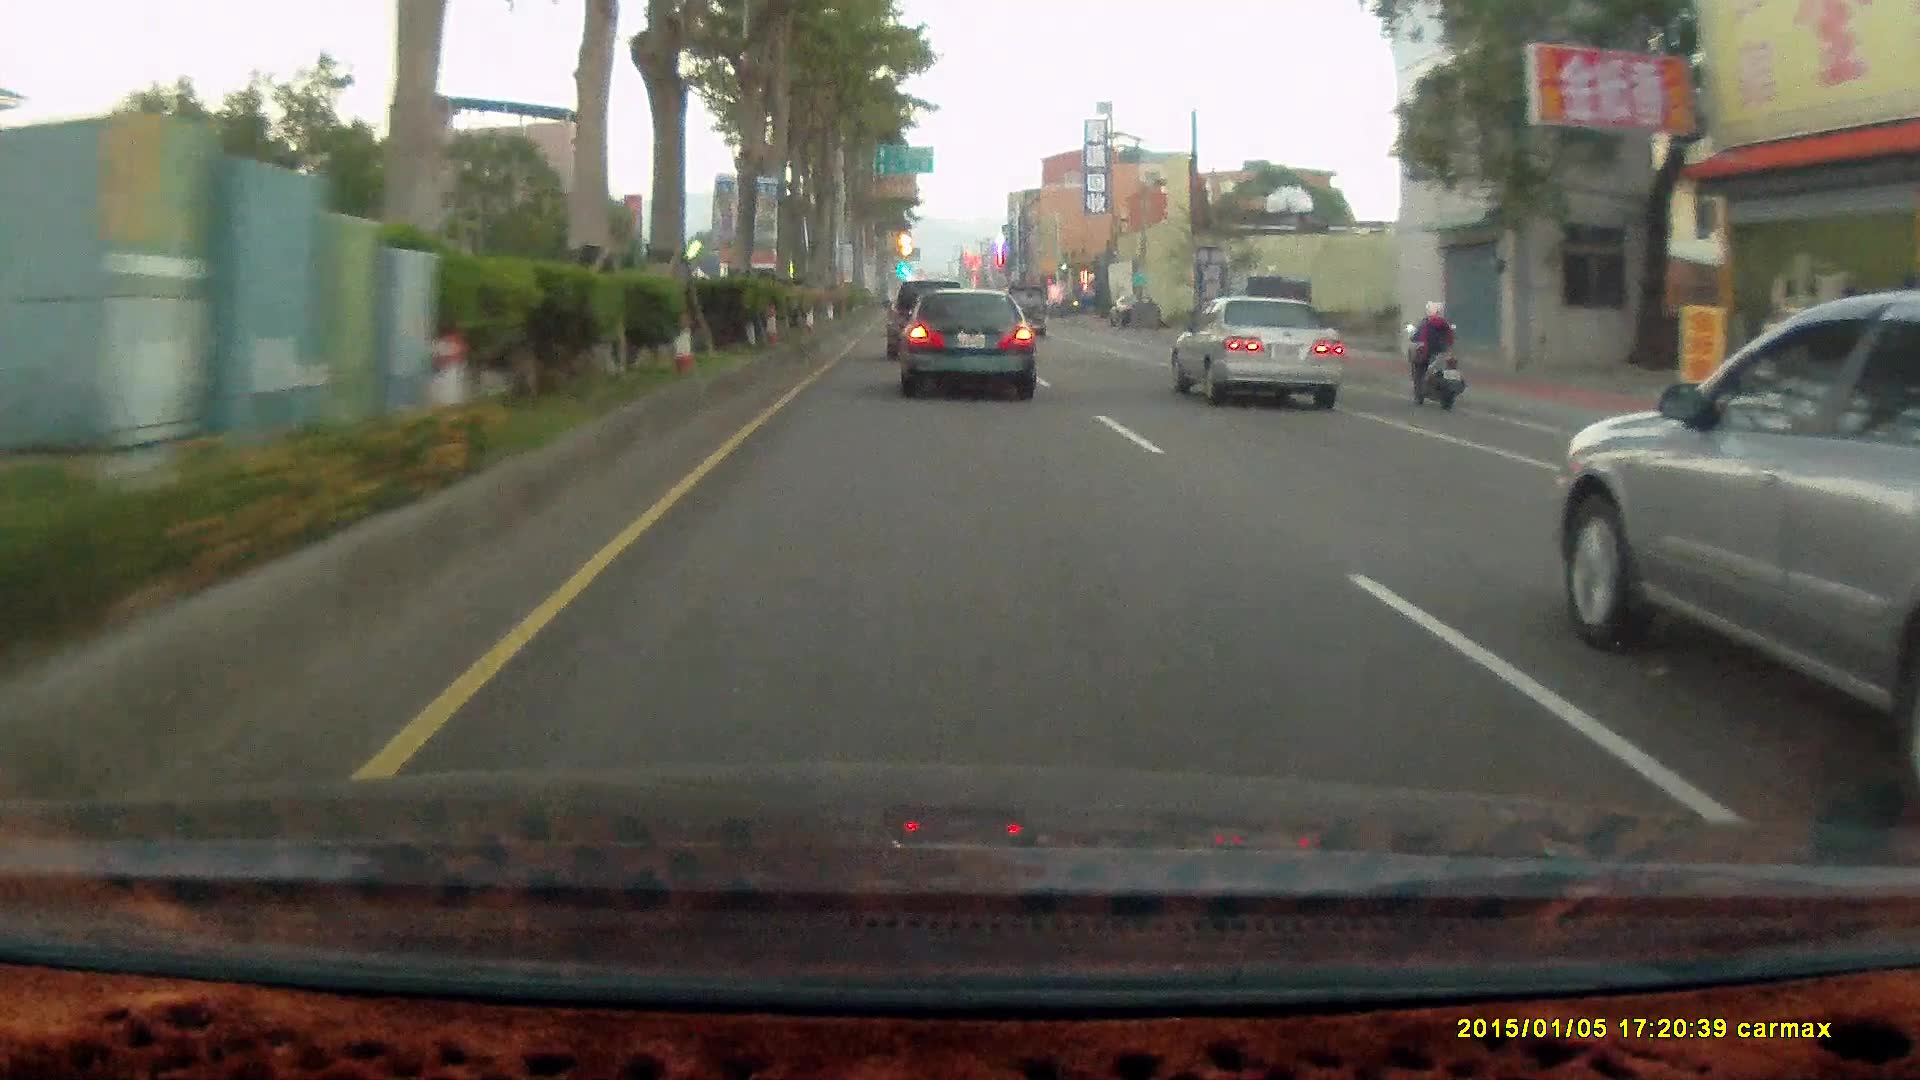rider: (1394, 290, 1474, 419), (1402, 296, 1467, 411)
vehicle: (1552, 303, 1920, 818), (1168, 293, 1345, 411), (1178, 300, 1345, 409), (897, 291, 1037, 403), (898, 289, 1037, 400), (887, 280, 973, 364), (1221, 280, 1311, 360), (884, 279, 966, 360), (1001, 285, 1048, 340)
